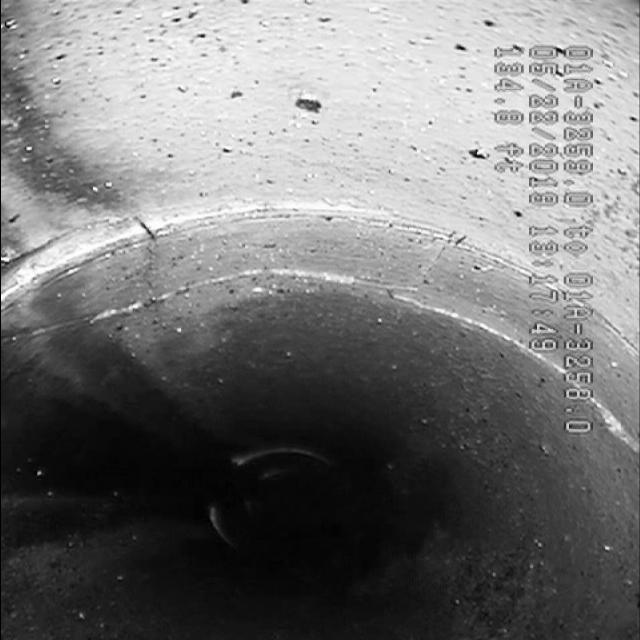Crack: (70, 232, 476, 334)
